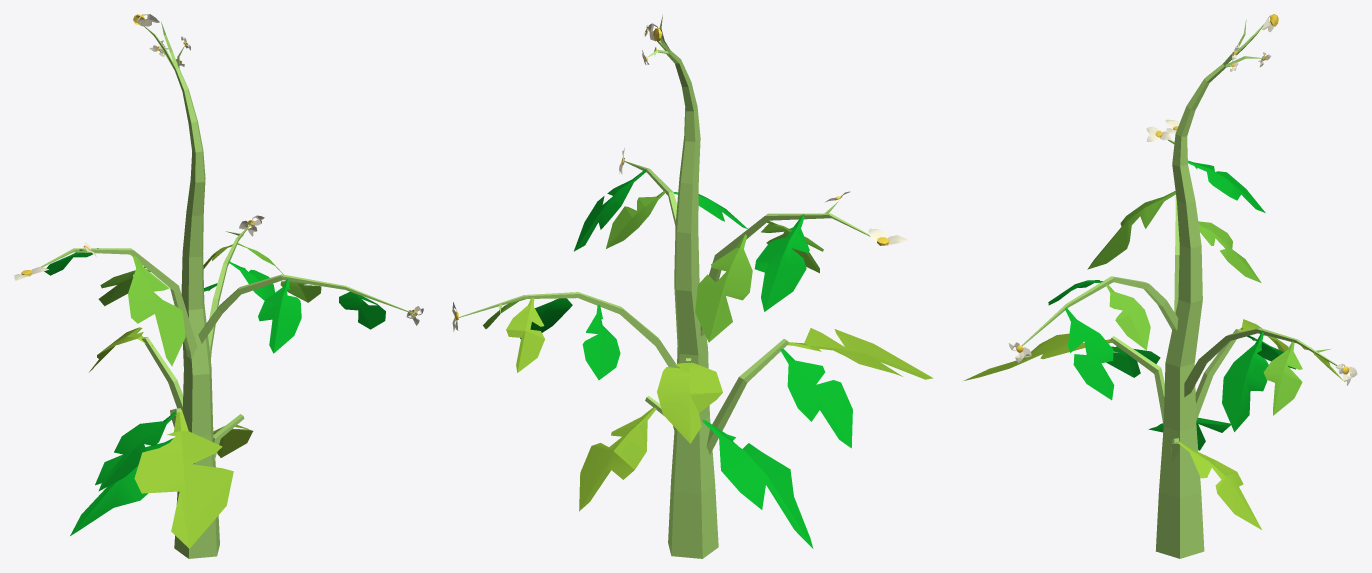
File: mesh_stage3bush_decay01.fbx
3 renders of one model, left to right at view 1: azimuth 30°, elevation 25°; view 2: azimuth 150°, elevation 25°; view 3: azimuth 270°, elevation 25°, orthographic. The views are drawn at different scales.
Parts seen in each view (by area): view 1: mesh_stage3bush_decay01; view 2: mesh_stage3bush_decay01; view 3: mesh_stage3bush_decay01.
Part boxes in pixels (x1,y1,x2,y2): mesh_stage3bush_decay01: (14,14,423,558); mesh_stage3bush_decay01: (452,14,933,558); mesh_stage3bush_decay01: (963,14,1357,558).
Size of the model in its own units: 60.78 by 88.68 by 60.18.
